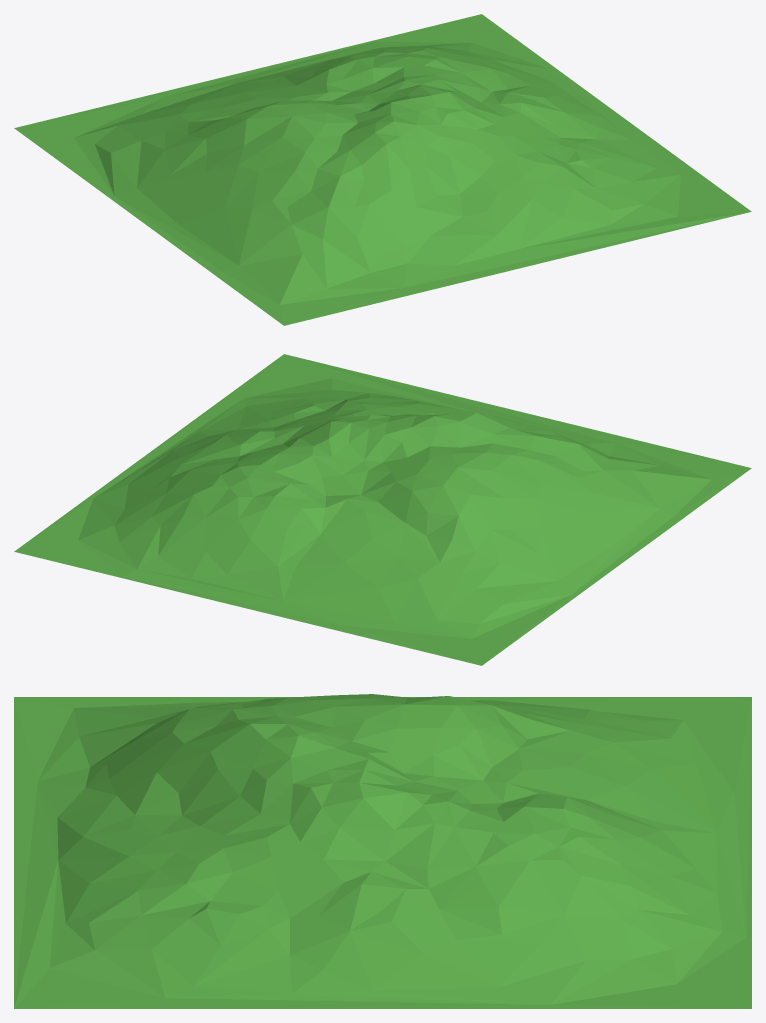
Rendered from hills01.fbx.
3 views of the same model, one above another, from view 1: azimuth 30°, elevation 25°; view 2: azimuth 150°, elevation 25°; view 3: azimuth 270°, elevation 25° (orthographic). The views are drawn at different scales.
Parts seen in each view (by area): view 1: hills01; view 2: hills01; view 3: hills01.
Boxes of the visible parts, x1,y1,x2,y2 form: hills01: [14, 14, 751, 325]; hills01: [14, 354, 751, 665]; hills01: [14, 694, 751, 1008].
Size of the model in its own units: 2000 by 310 by 2000.
